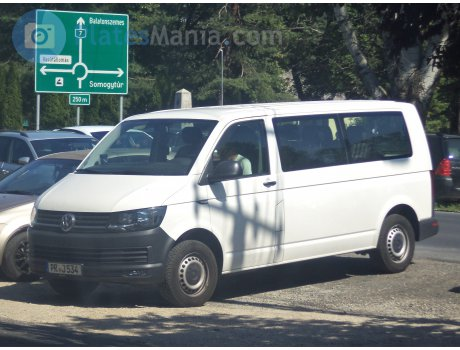License Plates: (50, 262, 84, 271)
